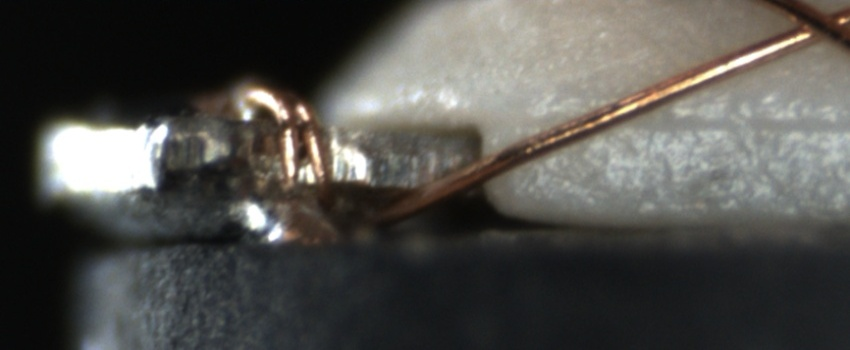CL: (761, 2, 848, 54)
DL: (612, 99, 850, 159)
TE: (226, 74, 330, 208)
